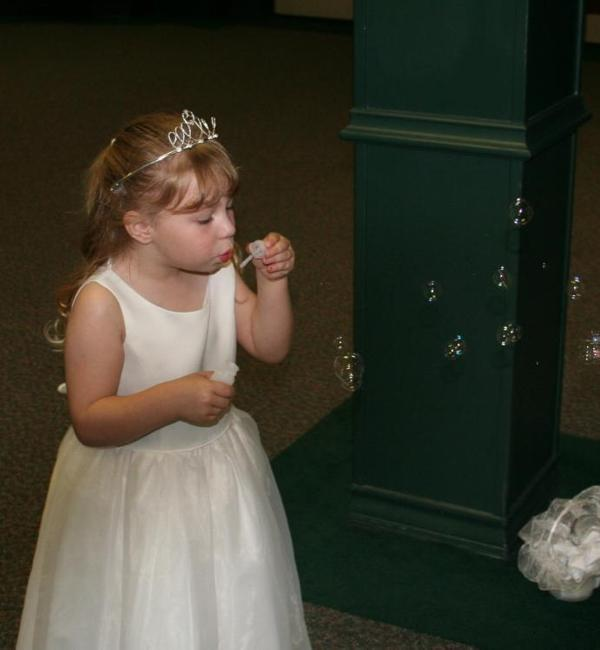person: (15, 114, 313, 649)
